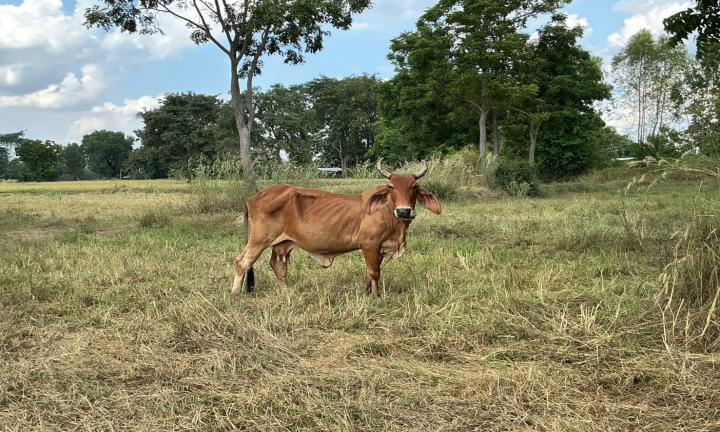Brahman: (233, 161, 441, 296)
